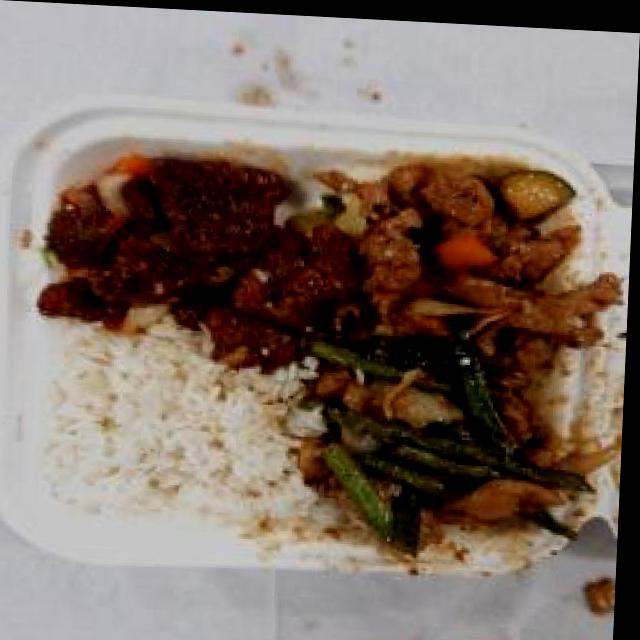Beijing Beef: (43, 140, 335, 355)
Kung Pao Chicken: (331, 144, 608, 368)
String Bean Chicken Breast: (310, 346, 579, 547)
White Steamed Rice: (47, 333, 313, 528)
